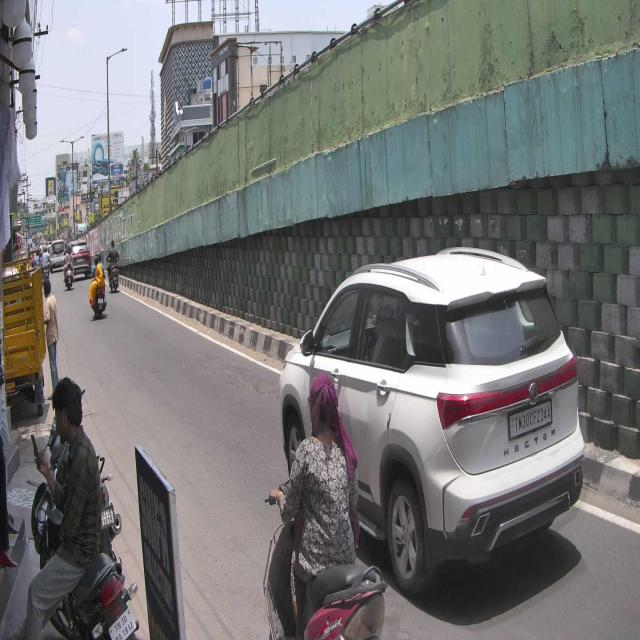single_rider: (261, 373, 388, 640)
